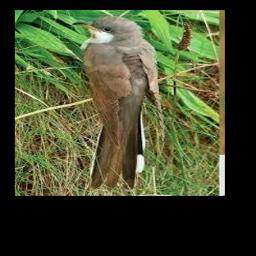Cuckoo: (72, 17, 160, 186)
